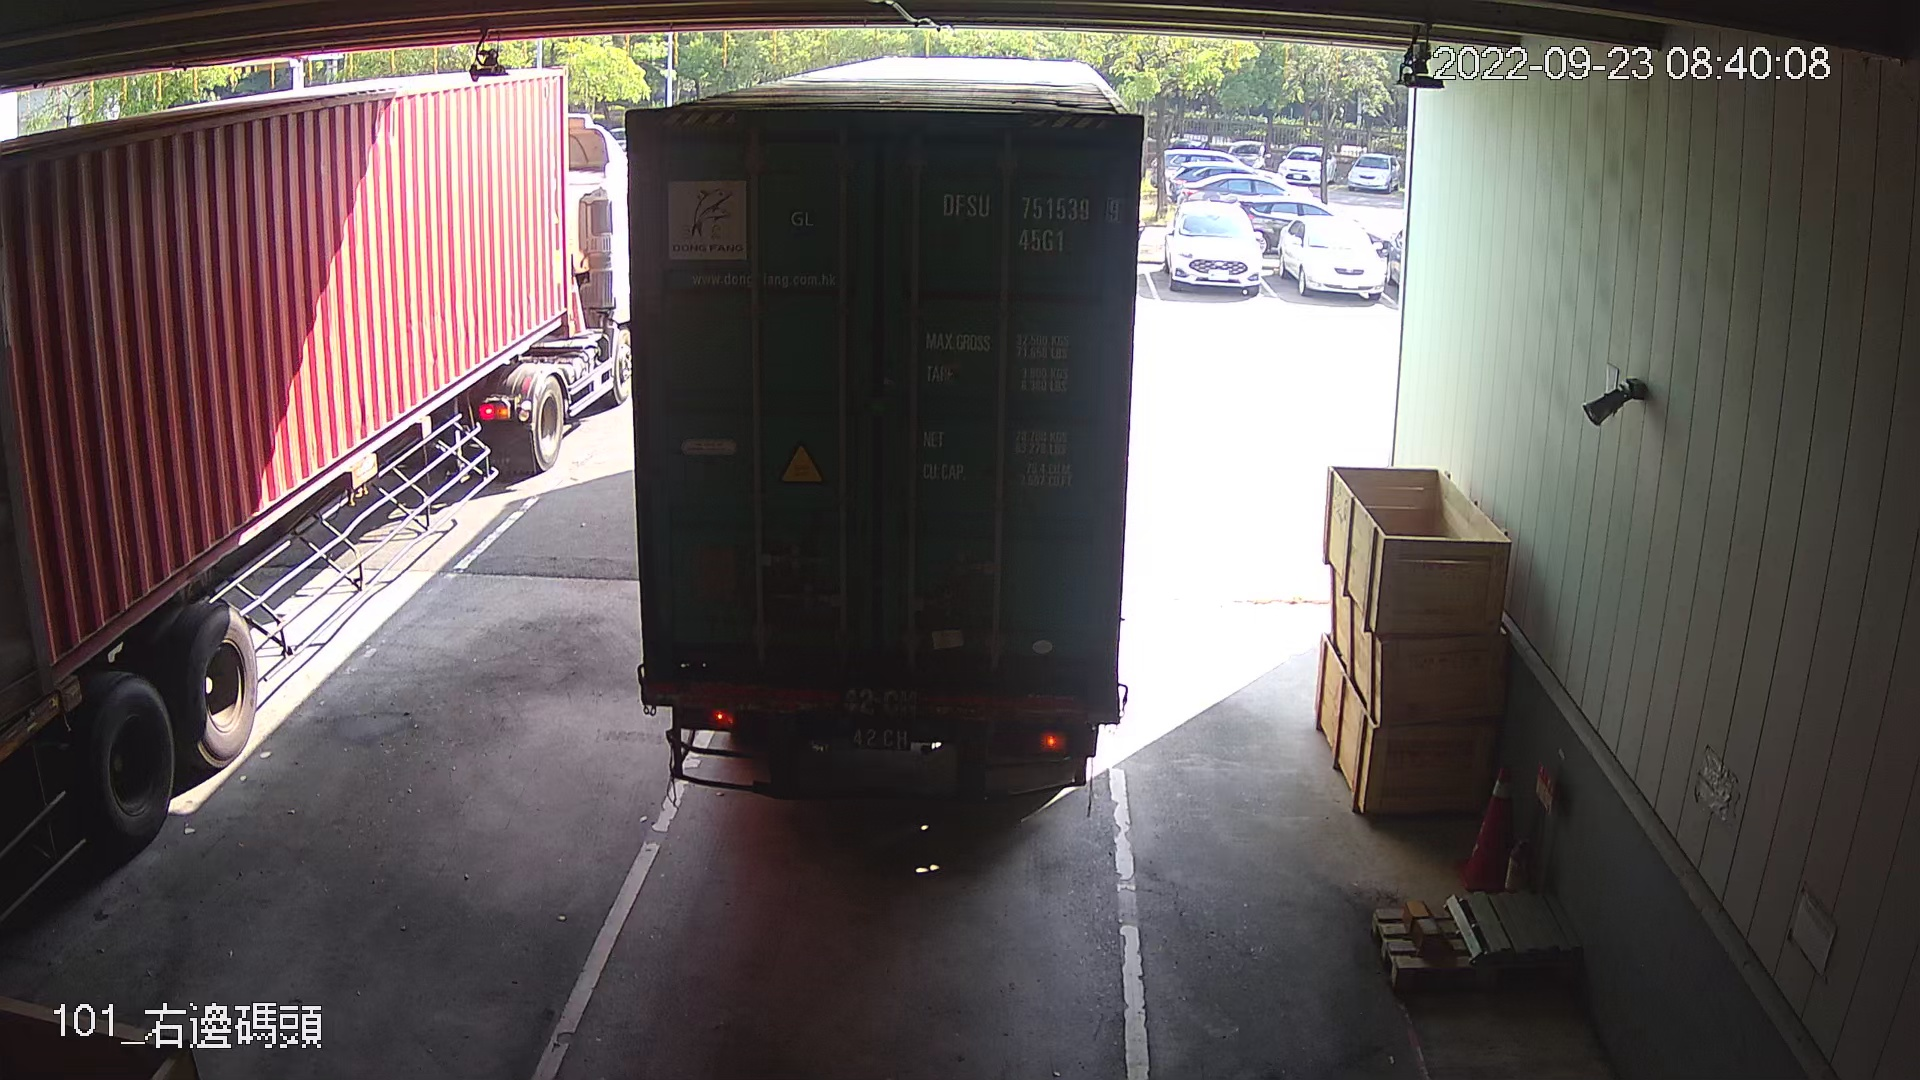container: (934, 179, 1131, 261)
